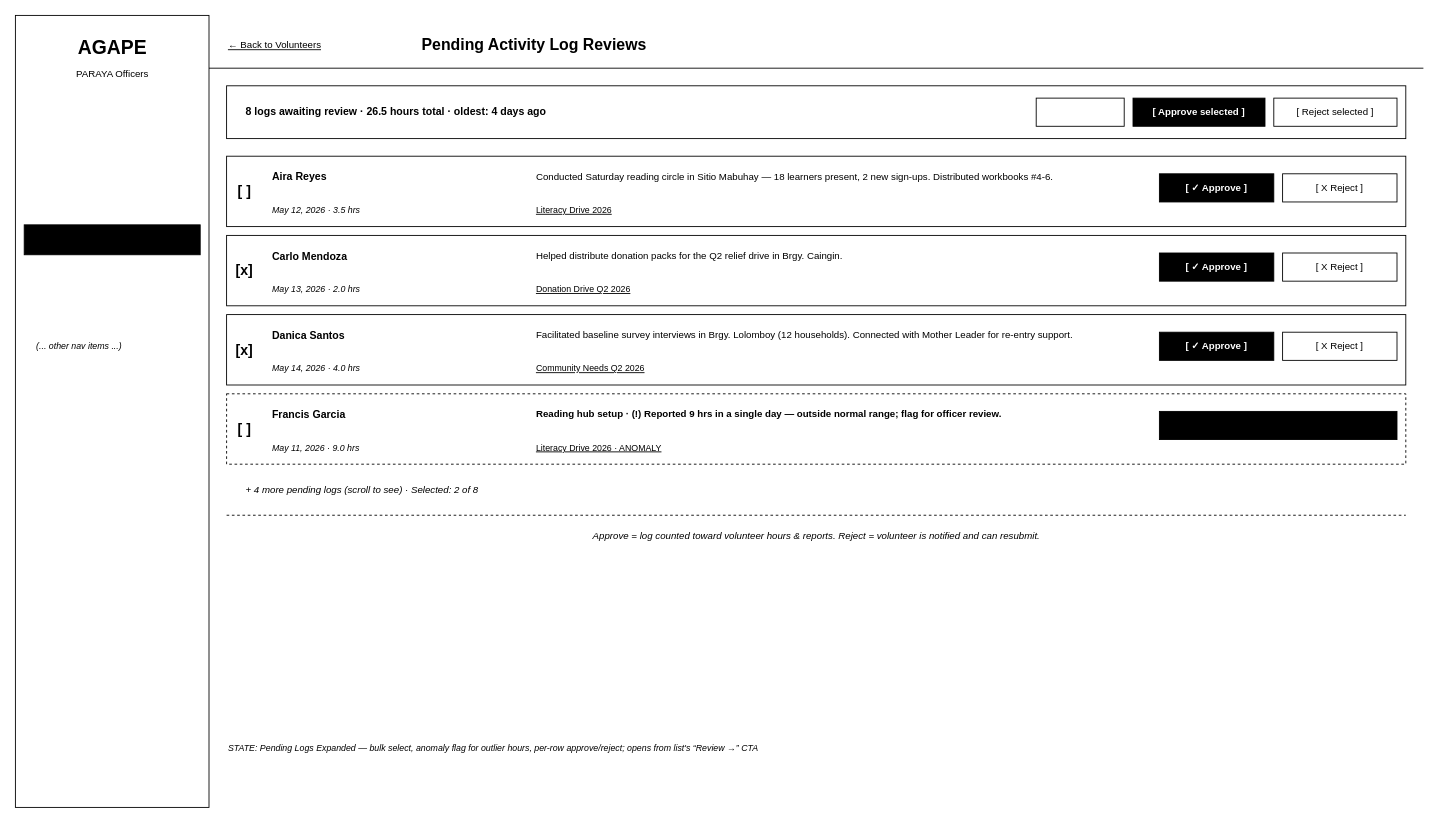
The diagram is 1440 pixels wide and 823 high, and some of its shapes have lost their labels. The centre of each missing label's shape, as x and y in pixels:
[ Review → ]: (x=1278, y=425)
[ Select all ]: (x=1079, y=111)
[x] Volunteers: (x=111, y=239)
